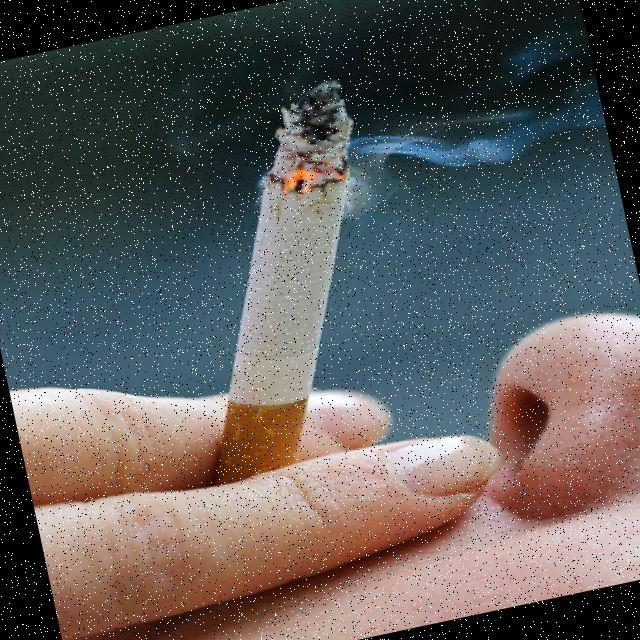cigarette: (120, 73, 440, 490)
